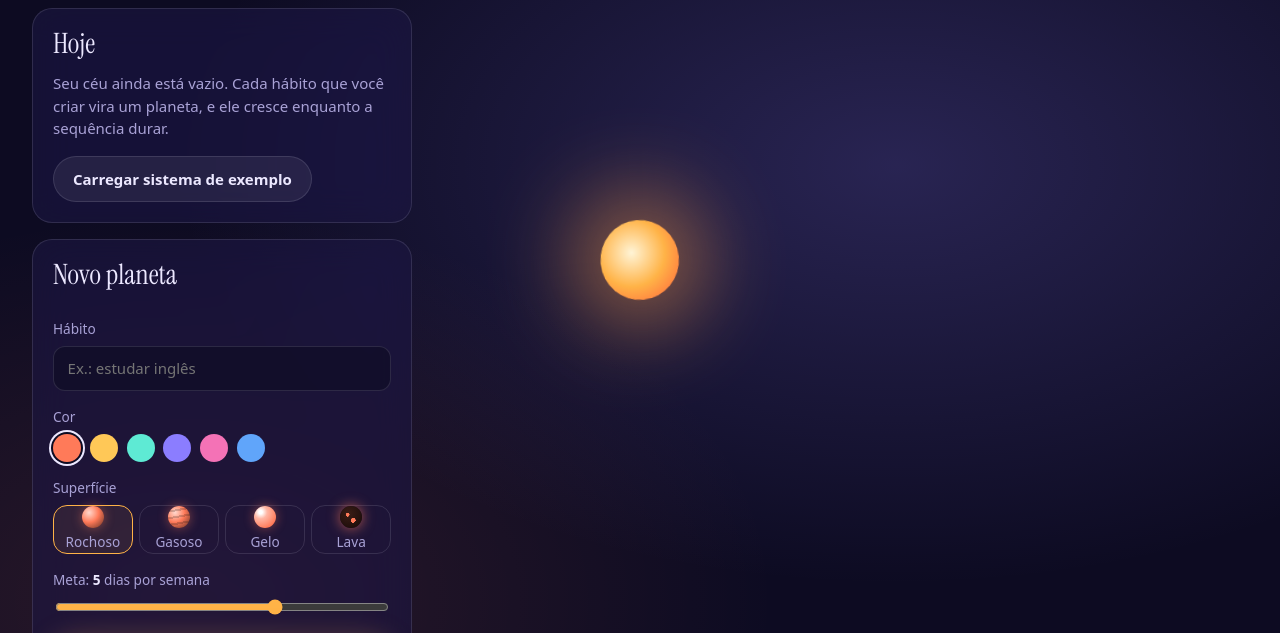
aplicação Órbita › atualiza o resumo do dia ao fazer o check-in
This screenshot has width=1280, height=633.
Type "Correr" into the field labelled "Hábito" at (222,368), box [53,346,391,391]
(page scrolled)
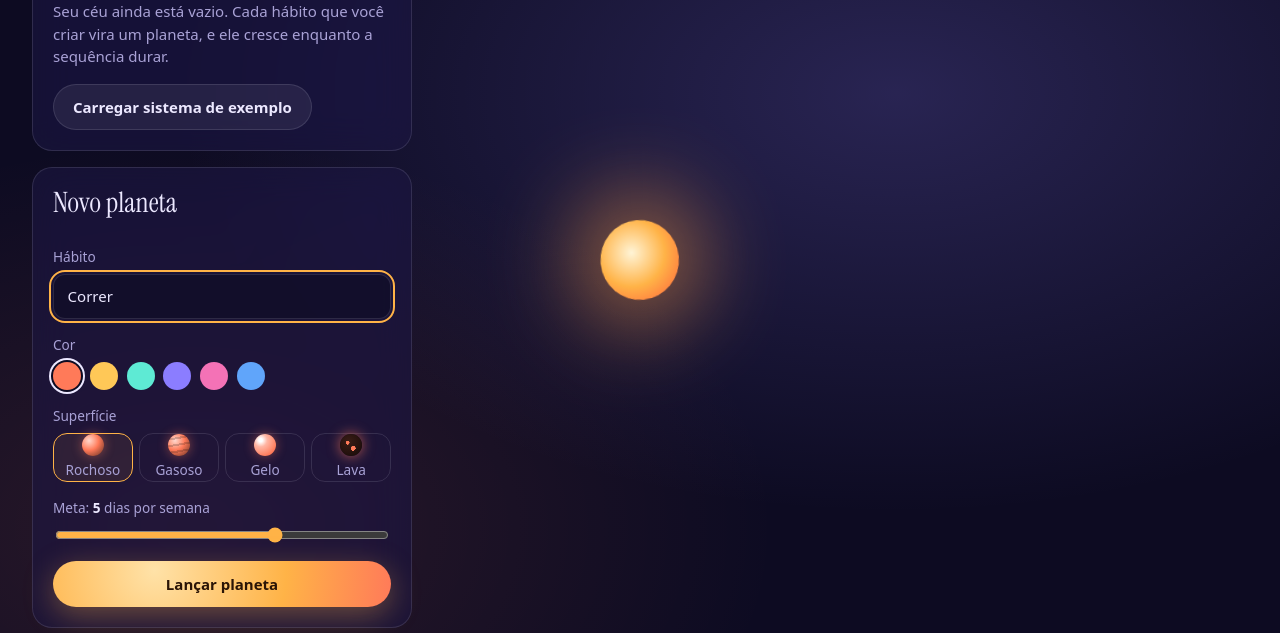
Click the button "Lançar planeta" at (222,584), box [53,561,391,607]
(page scrolled)
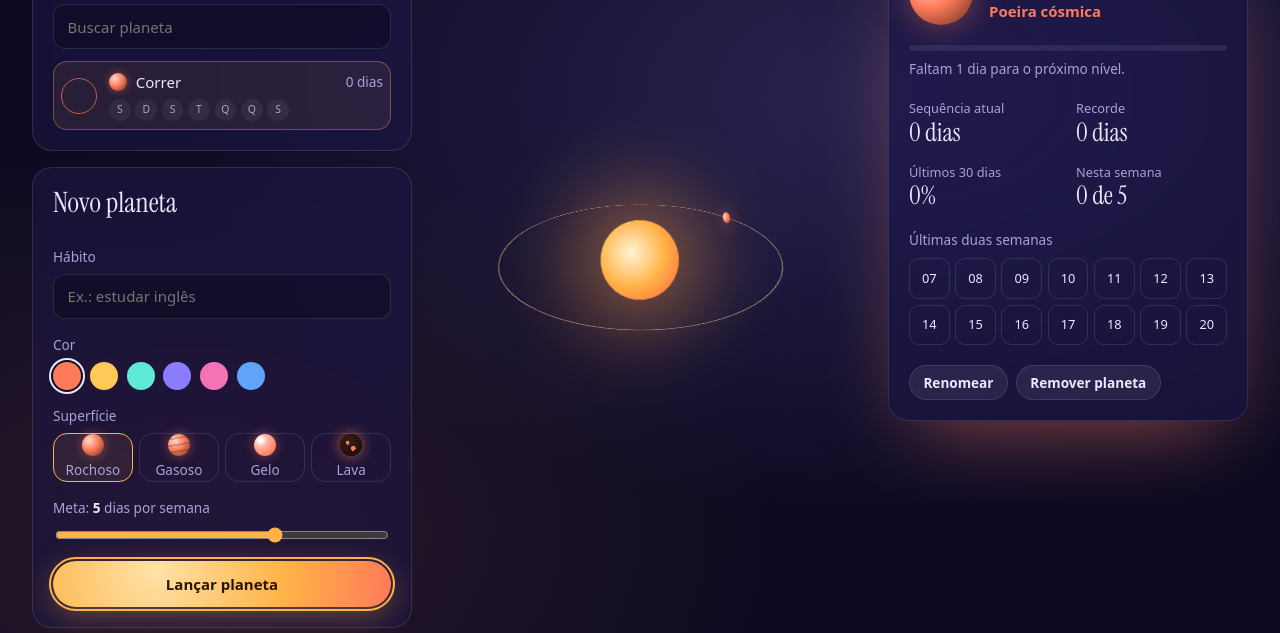
Click the button named "Marcar Correr como feito hoje" at (79,96), box [61,78,97,114]
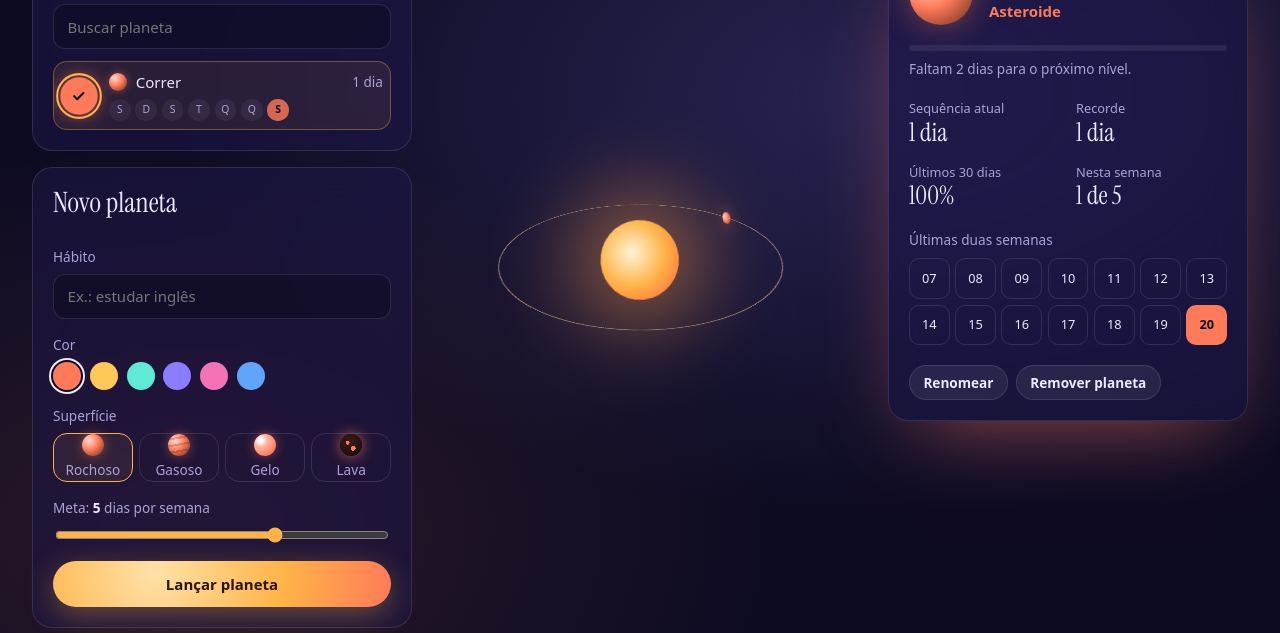
Expected: the text with test id "detail-streak" reads "1 dia", [909,116,947,149]
